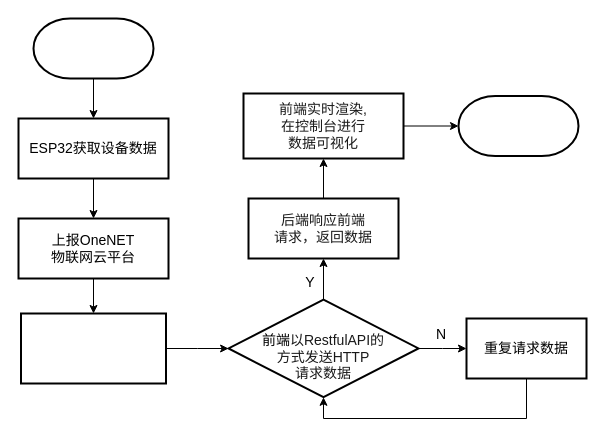
Image size: 604x444. Some labels were removed from this diagram. Each missing label, with the box of its shape:
后端 通过 Pulsar SDK消费数据 并存储在数据库: (20, 312, 166, 384)
开始: (32, 17, 154, 79)
结束: (457, 94, 579, 156)
